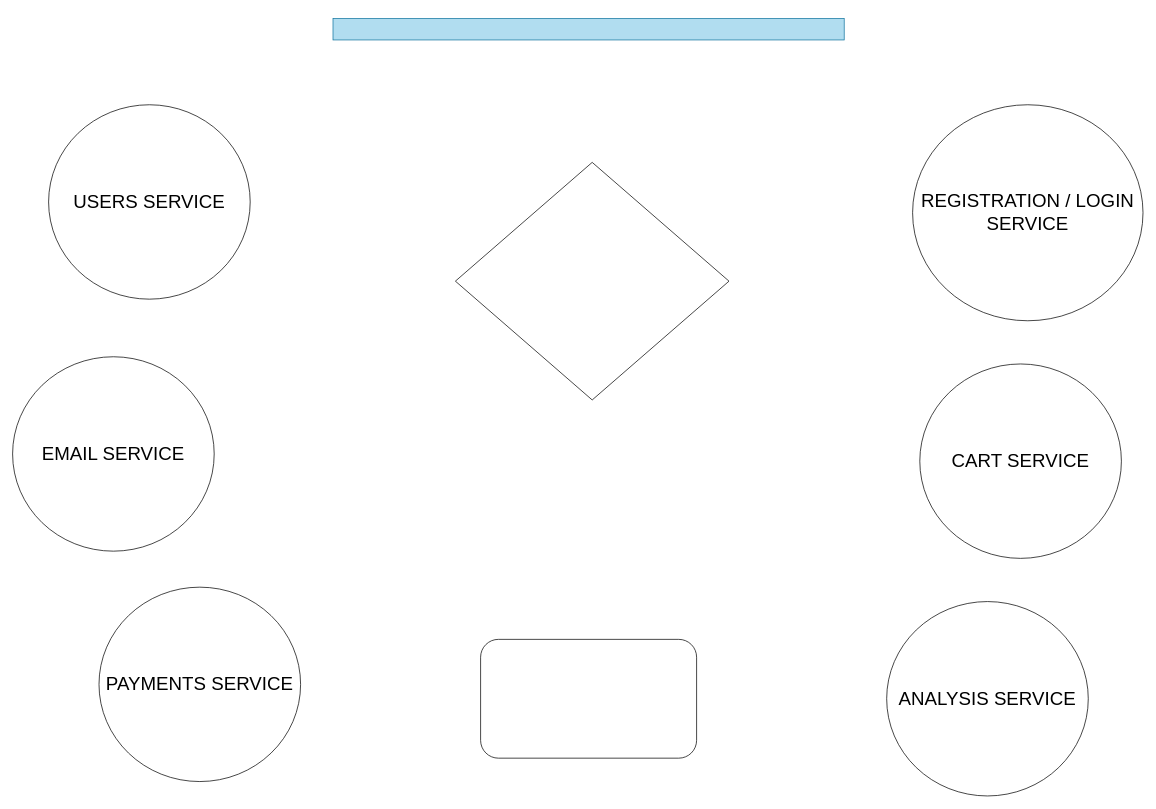
Some shapes in this 1156 by 809 pixel diagram are drawn without their labels. The shapes that lost their labels are listed below. From the top down, each one's centre as x and y in pixels, then its label:
[588,29]: Prototypical design for beta
[592,281]: AUTHORIZATION SERVICE
[588,698]: FRONTEND
